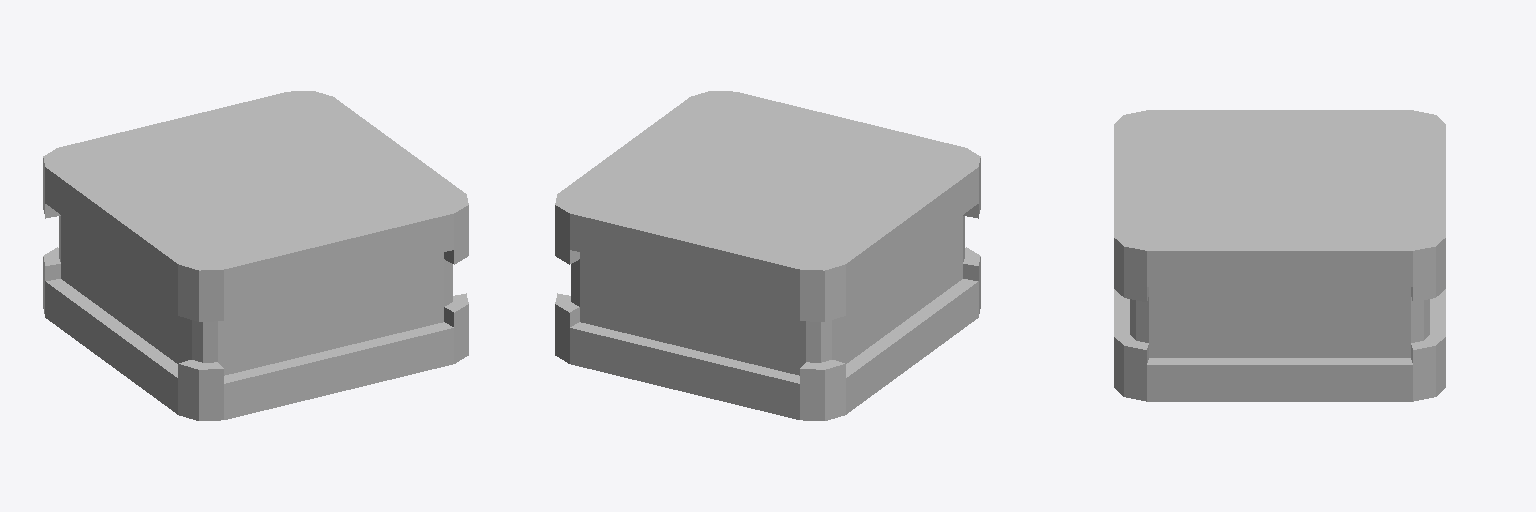
The model's file is blockMovingBlue.obj.
3 renders of one model, left to right at view 1: azimuth 30°, elevation 25°; view 2: azimuth 150°, elevation 25°; view 3: azimuth 270°, elevation 25°, orthographic.
Visible parts, largest first — view 1: blockMovingBlue; view 2: blockMovingBlue; view 3: blockMovingBlue.
Boxes of the visible parts, box(x1,y1,x2,y2) form: blockMovingBlue: box(43, 91, 468, 420); blockMovingBlue: box(555, 91, 980, 420); blockMovingBlue: box(1114, 110, 1445, 401).
Size of the model in its own units: 1 by 0.5 by 1.